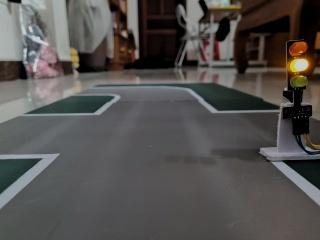yellow: (275, 31, 320, 104)
